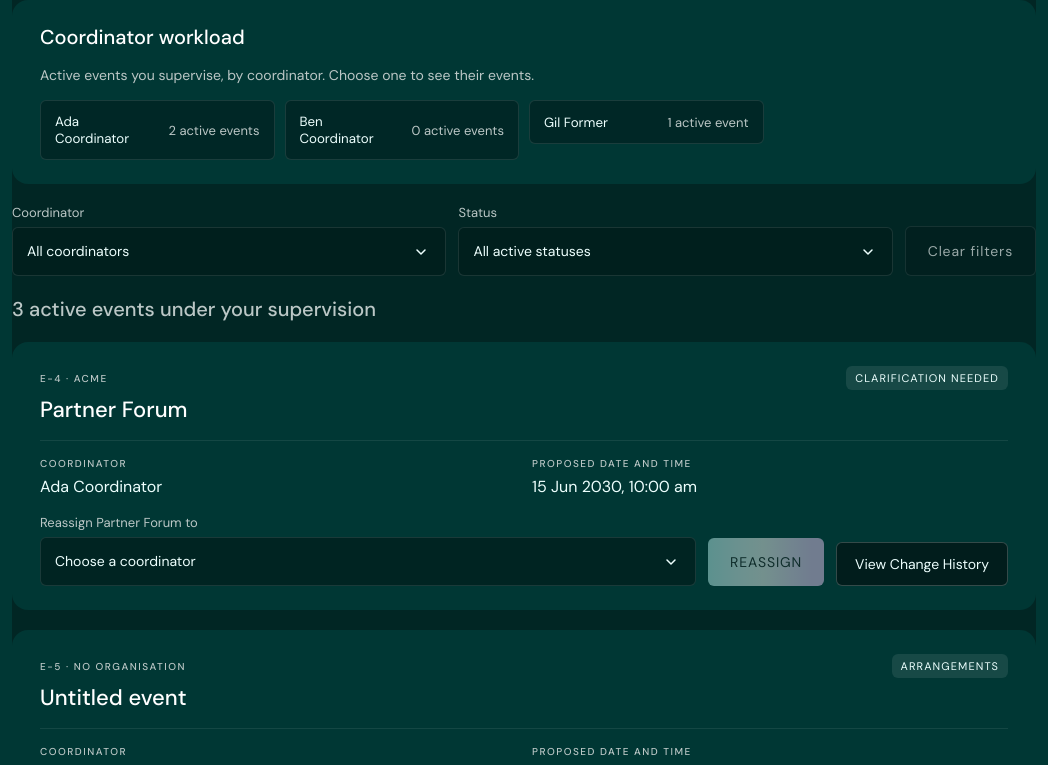
Test: CoordinatorOverview (SG2-89) › [NORMAL] [SG2-89:AC2] shows every coordinator's workload, including one with nothing, and opens their events
This screenshot has width=1048, height=765.
Click the button "Ada Coordinator 2 active events": (157, 130) x1=40 y1=100 x2=274 y2=160
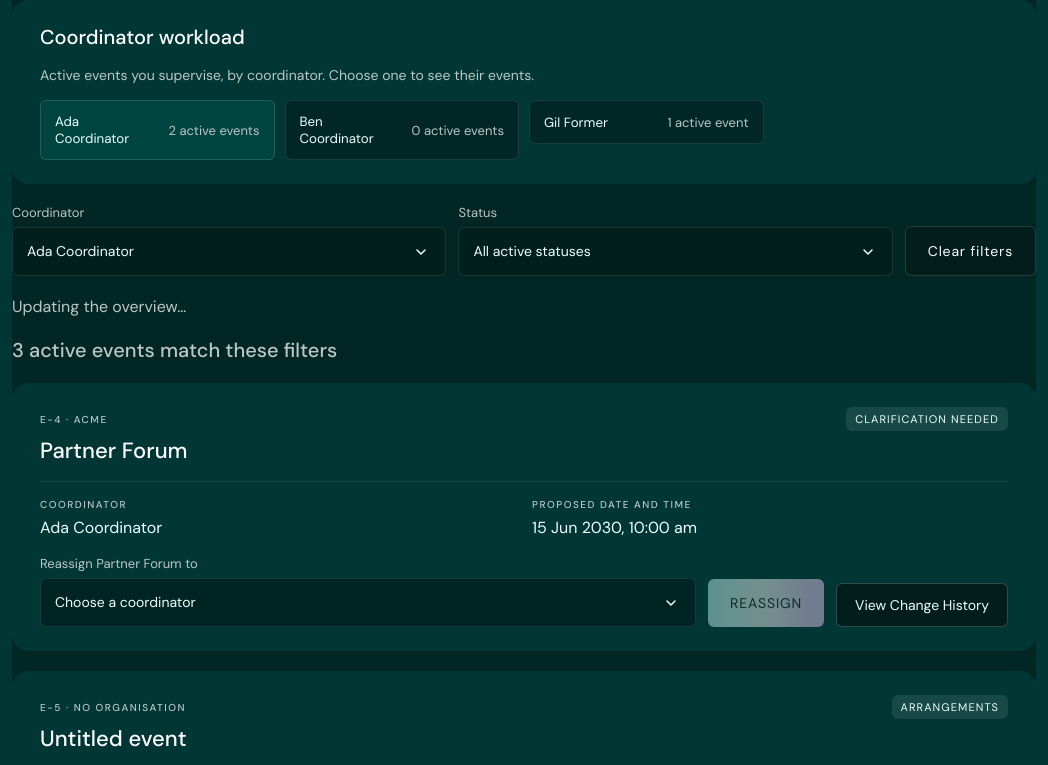
Now the heading "3 active events match these filters" is shown, box x1=12 y1=337 x2=337 y2=363
Click the button "Ada Coordinator 2 active events": (157, 130) x1=40 y1=100 x2=274 y2=160
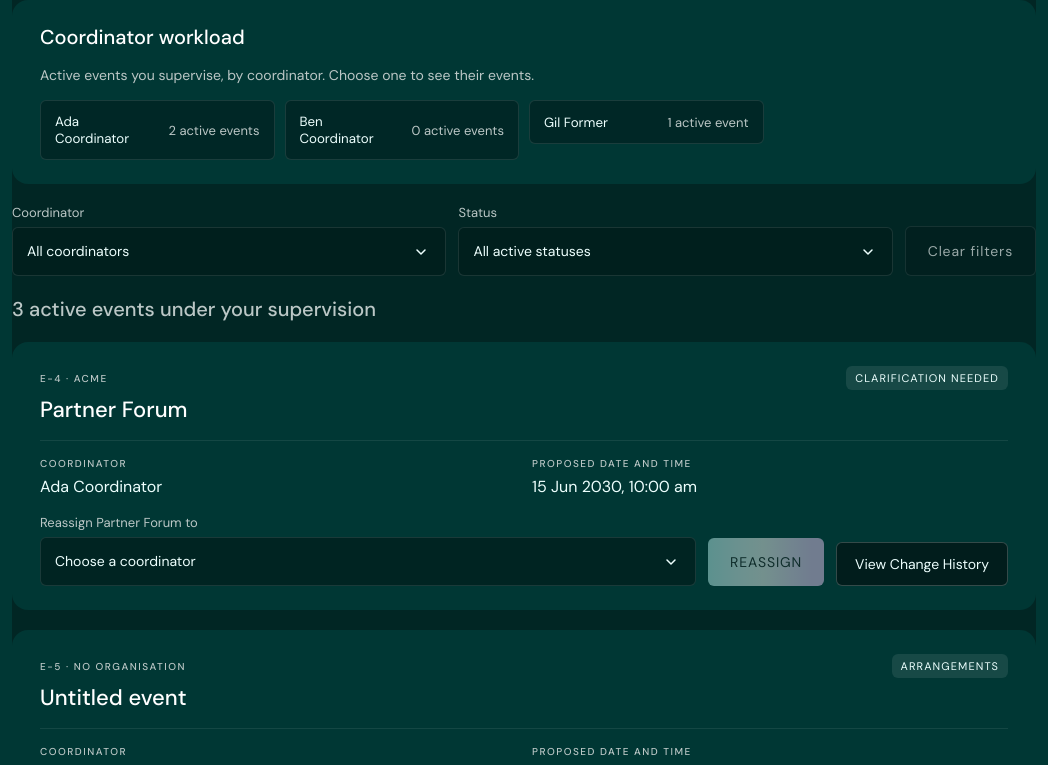
Now the heading "3 active events under your supervision" is shown, box x1=12 y1=296 x2=376 y2=322
